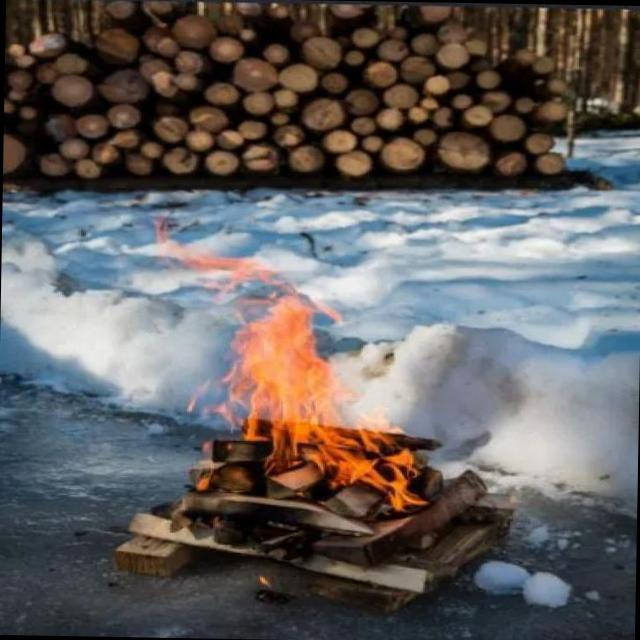Fire: (146, 203, 432, 522)
